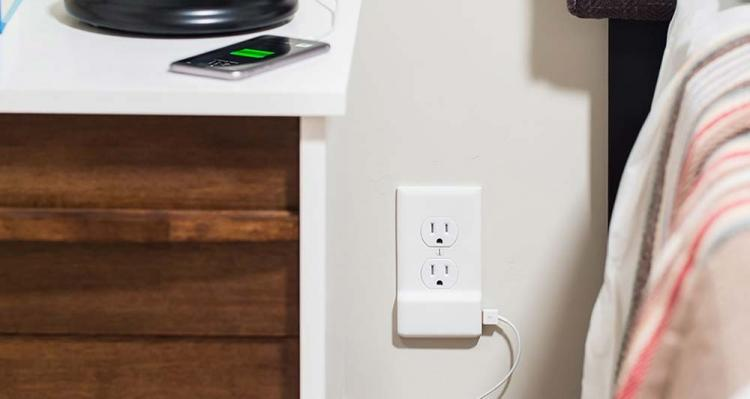outlet: (426, 218, 453, 245), (426, 261, 453, 286)
